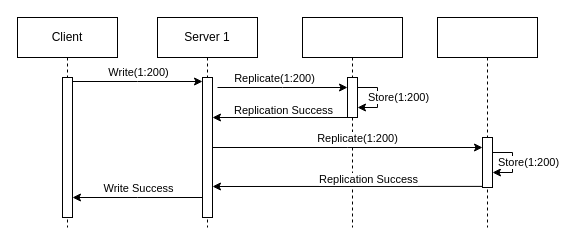
Image size: 576x245. Some labels were removed from this diagram. The shapes that lost their labels are listed below. From the top down, each one's centre as x and y in pixels, then its label:
At point (352, 122): "Server 2".
At point (487, 122): "Server 3".
